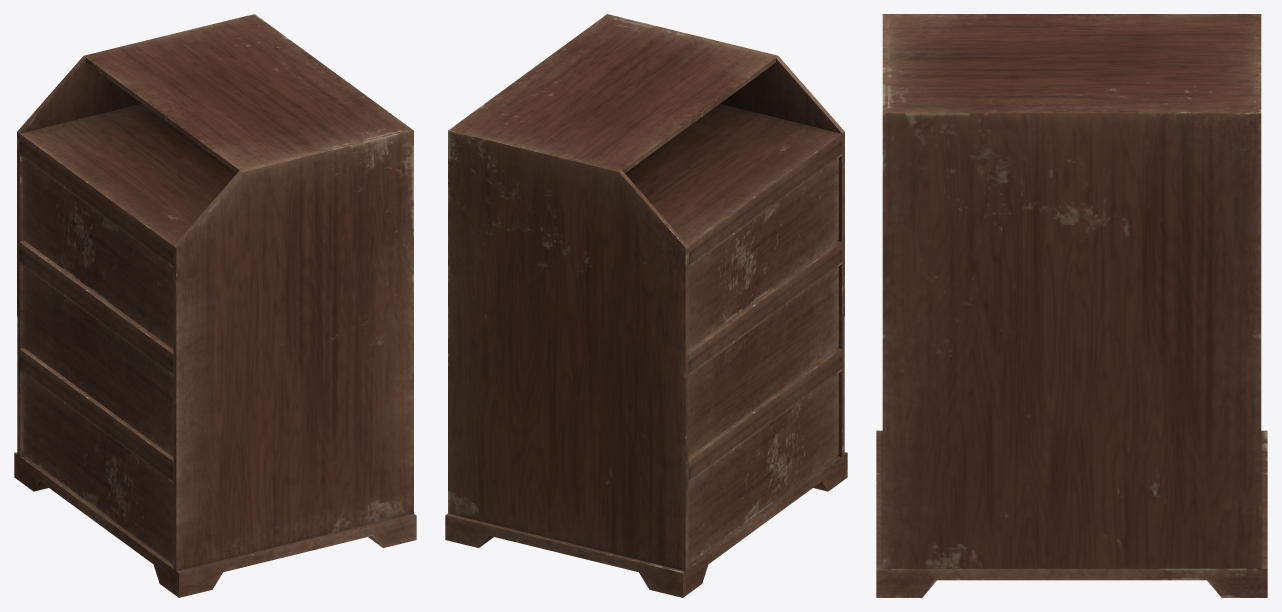
File: Cupboard.FBX
3 views of the same model, side by side, from view 1: azimuth 30°, elevation 25°; view 2: azimuth 150°, elevation 25°; view 3: azimuth 270°, elevation 25° (orthographic). The views are drawn at different scales.
Visible parts, largest first — view 1: Cupboard Lowpoly, Door Top, Door Bot, Door Mid; view 2: Cupboard Lowpoly, Door Top, Door Bot, Door Mid; view 3: Cupboard Lowpoly.
Boxes of the visible parts, box(x1,y1,x2,y2) form: Cupboard Lowpoly: box(14, 14, 416, 597); Door Top: box(23, 158, 173, 349); Door Bot: box(23, 373, 173, 564); Door Mid: box(23, 266, 173, 456); Cupboard Lowpoly: box(445, 14, 847, 597); Door Top: box(688, 158, 838, 349); Door Bot: box(688, 373, 838, 564); Door Mid: box(688, 266, 838, 456); Cupboard Lowpoly: box(876, 14, 1267, 597).
Size of the model in its own units: 50.02 by 81.95 by 60.
